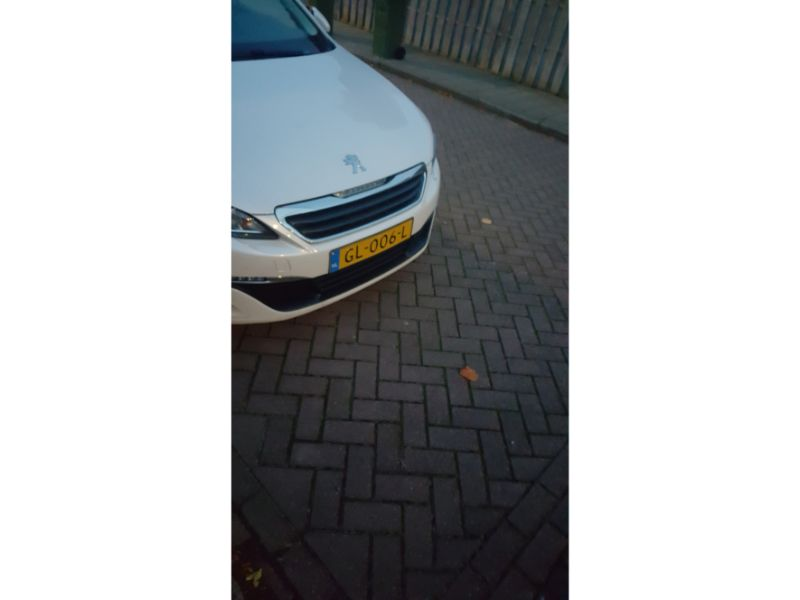kenteken: (329, 220, 414, 271)
